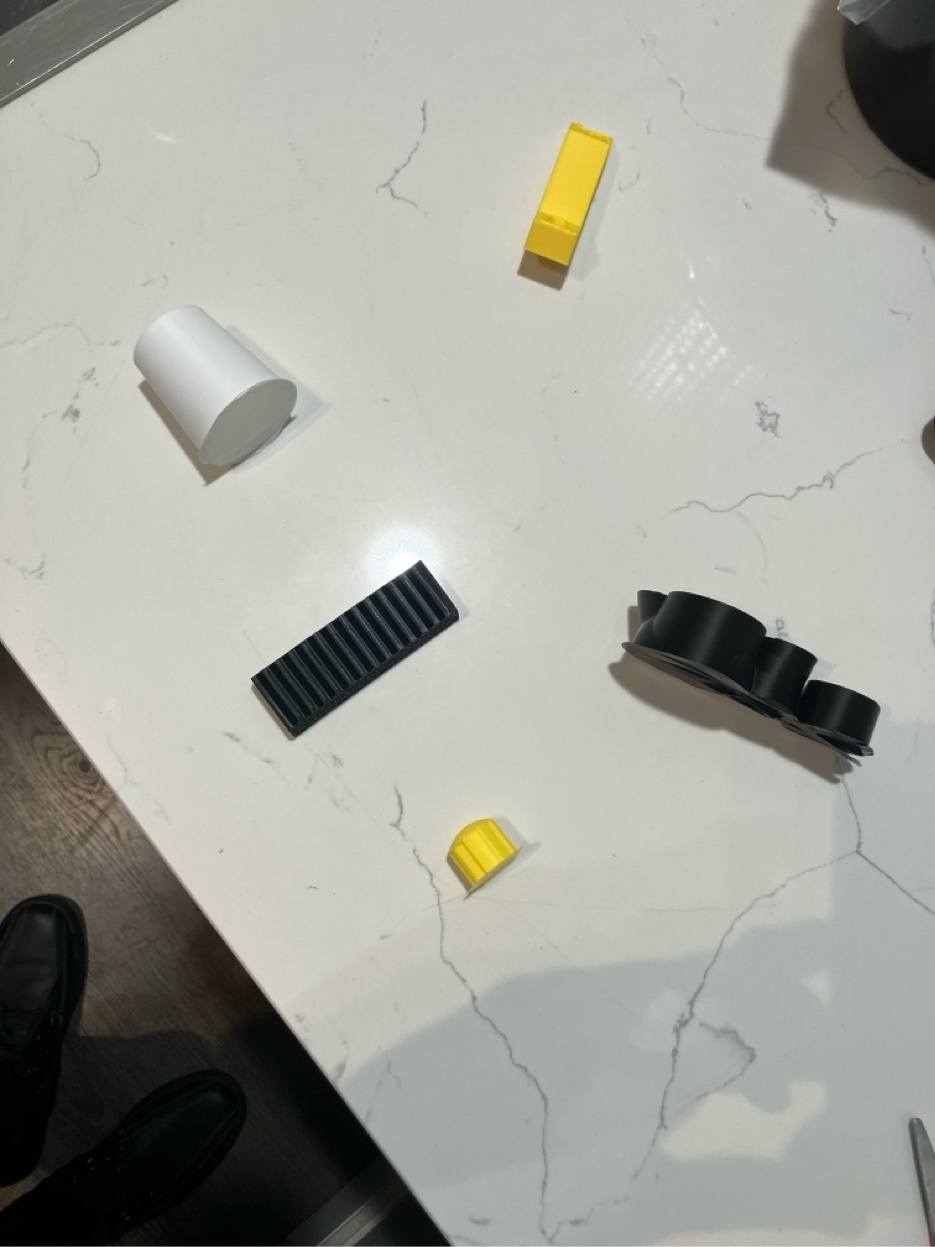bracket: (521, 123, 613, 285)
cup: (133, 305, 297, 465)
holder: (627, 590, 879, 760)
knob: (448, 818, 518, 890)
slotted_block: (253, 564, 458, 736)
